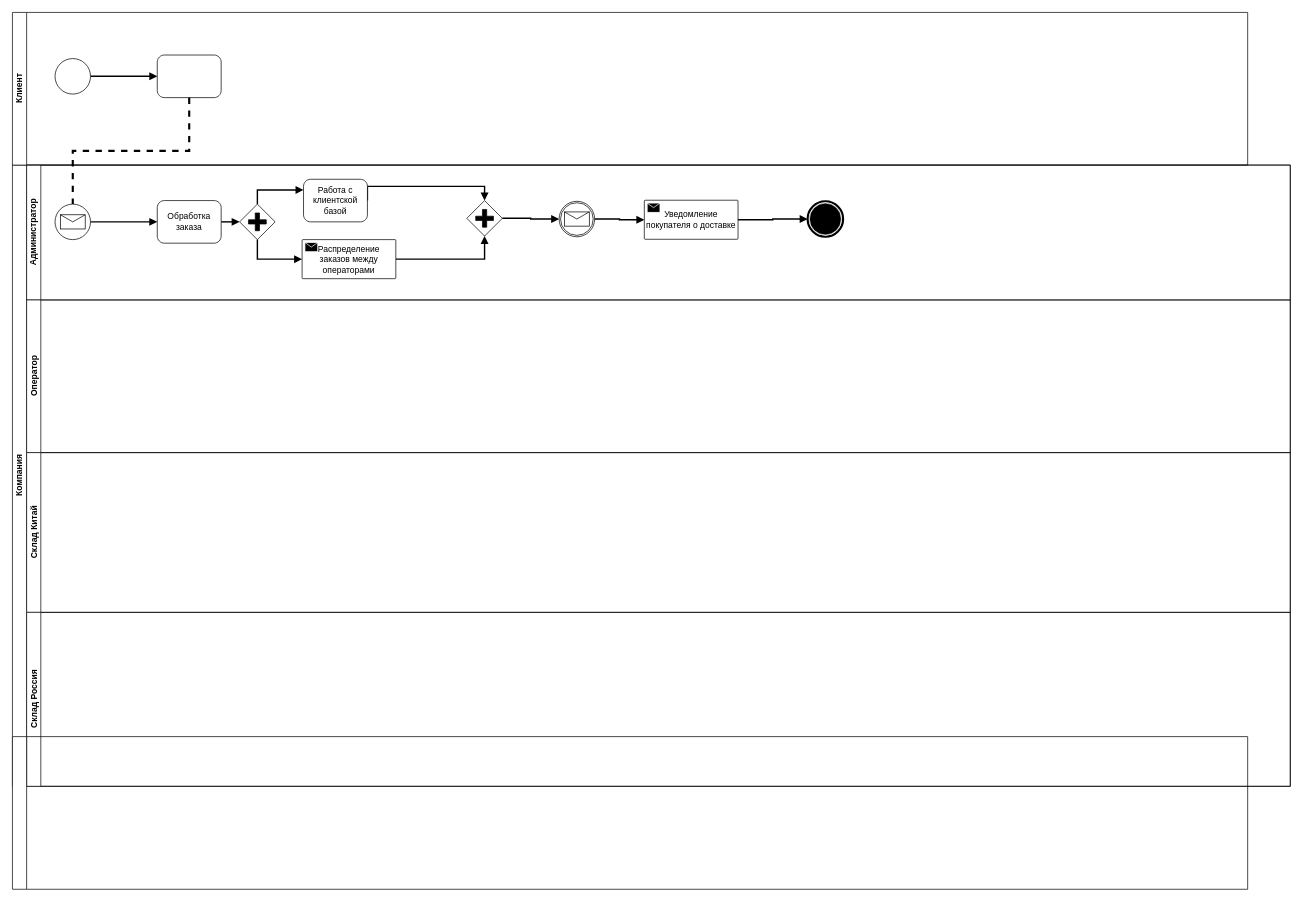
Image size: 1303x902. Some labels were removed from this diagram. Each missing label, with the centre of its shape:
Заявка на выкуп и доставку товара: pixel 189 76
Служба доставки: pixel 630 812
